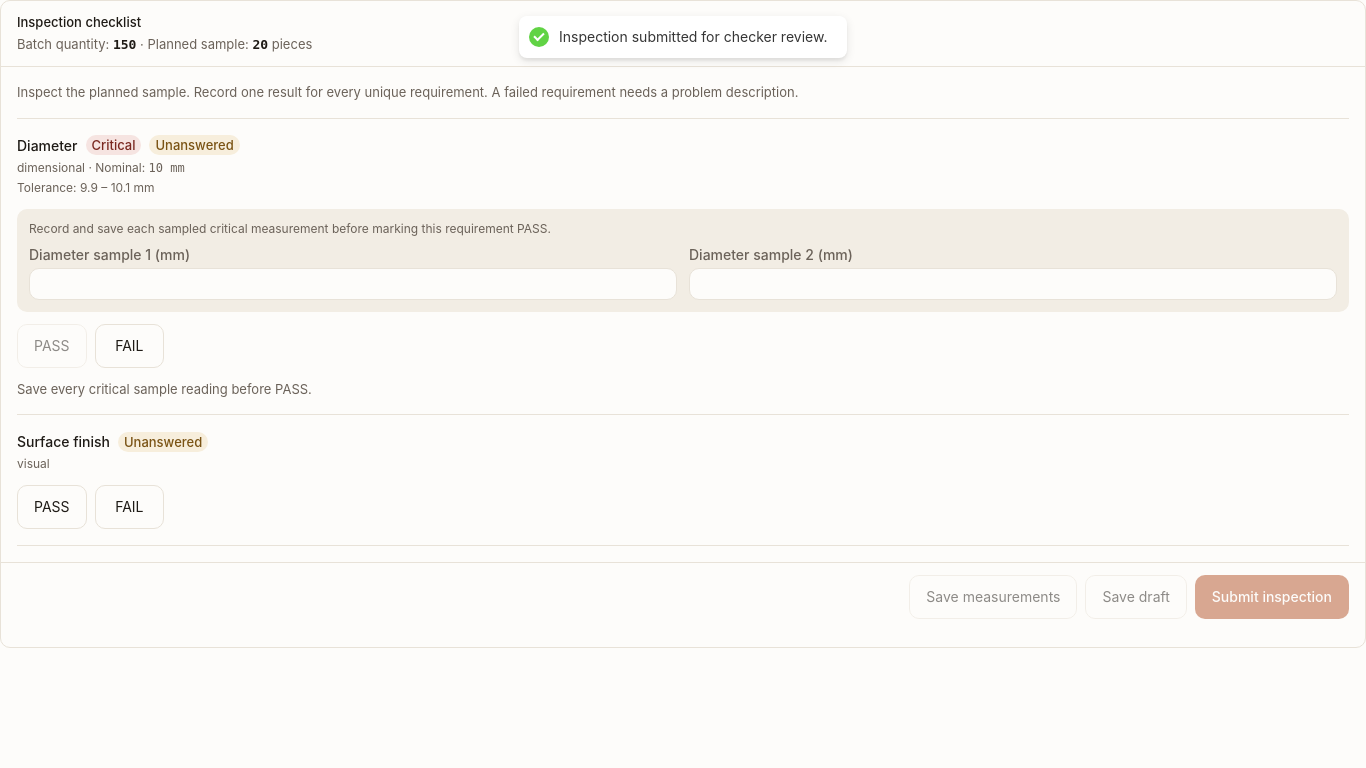
InspectionChecklistPanel › saves partial decisions as drafts and leaves submission disabled
Click the button with aria-label "FAIL Diameter".
click(129, 346)  # box [94,324,164,368]
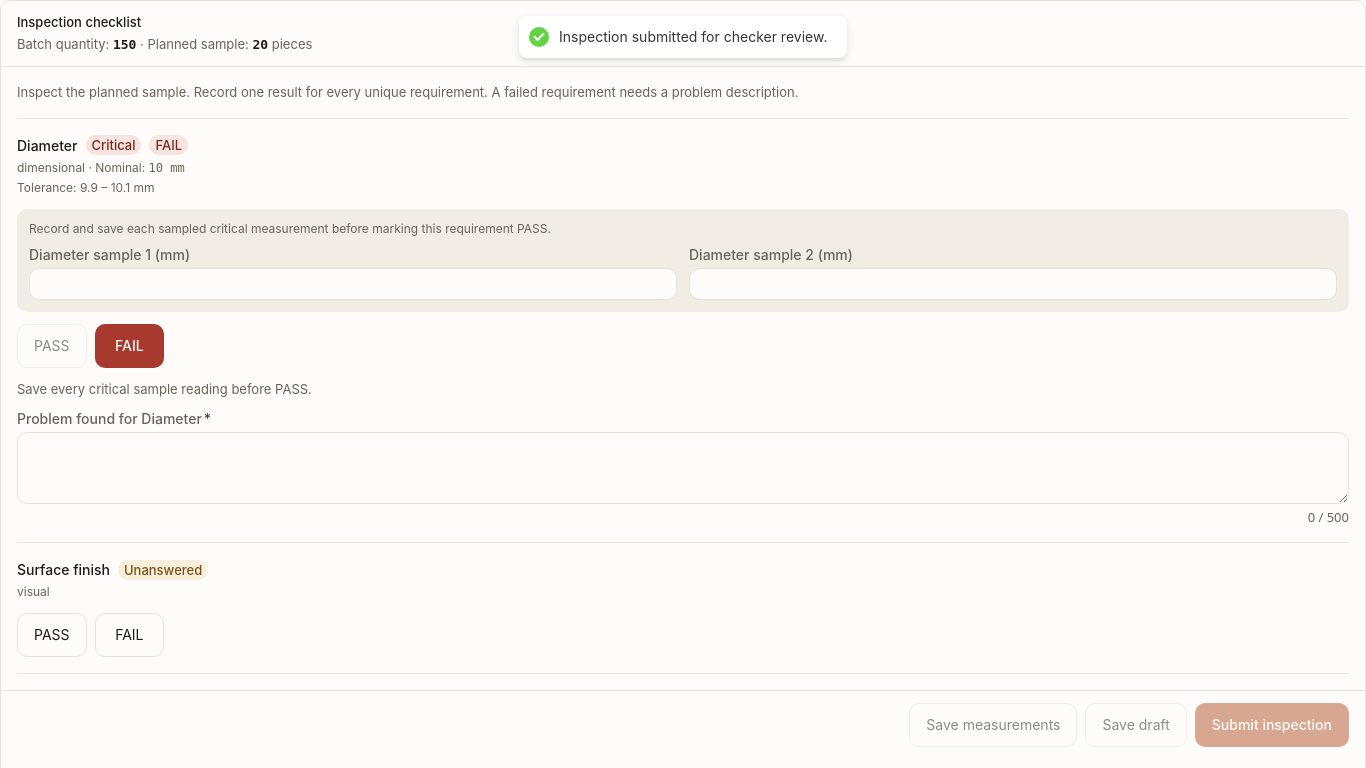
Type "Out-of-spec housing" into the text box labelled "Problem found for Diameter".
click(683, 468); type("Out-of-spec housing")  # box [17,432,1349,504]
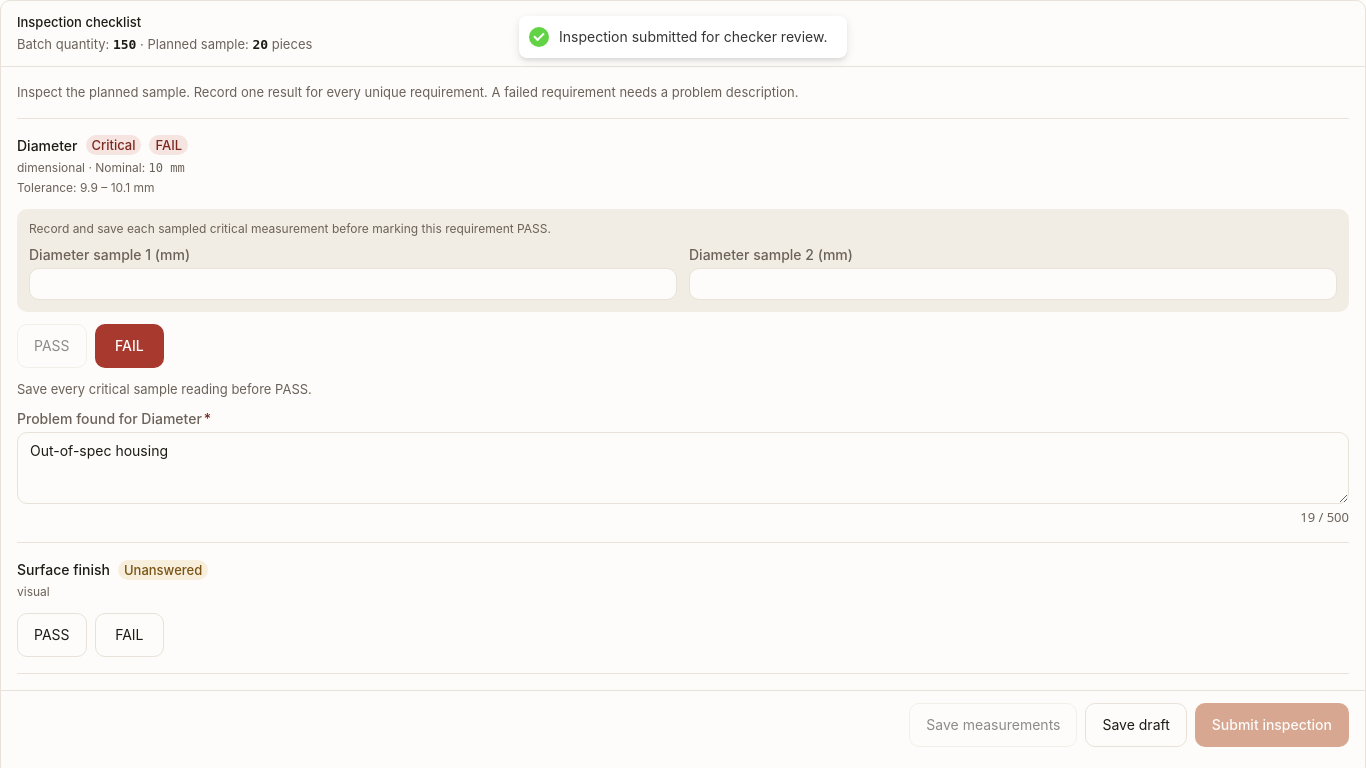
Expected: the button "Submit inspection" is disabled, [1195,703,1349,747]
Expected: the button "Save draft" is enabled
Click the button "Save draft".
click(1136, 725)  # box [1086,703,1187,747]
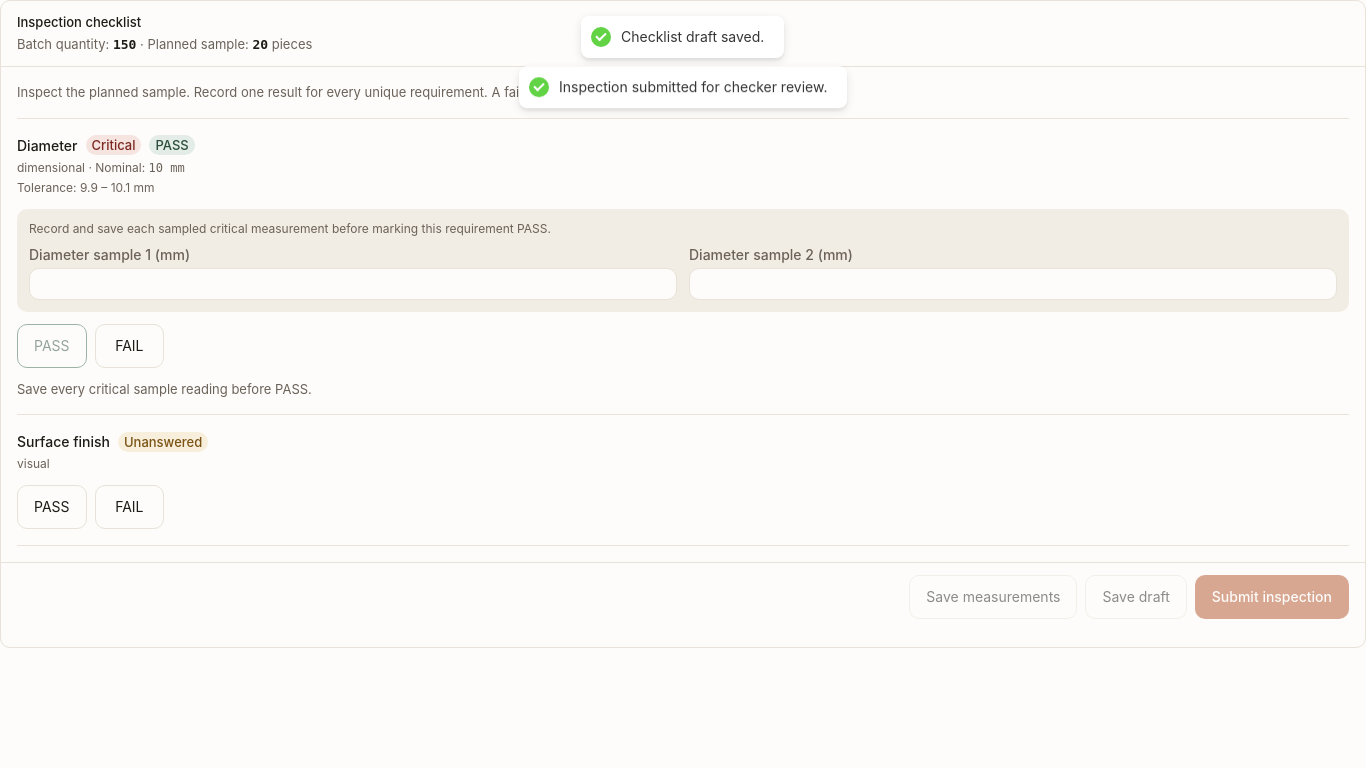
Expected: the button "Submit inspection" is disabled, [1195,575,1349,619]
Expected: the text "Checklist draft saved." is shown, [621,28,765,46]
